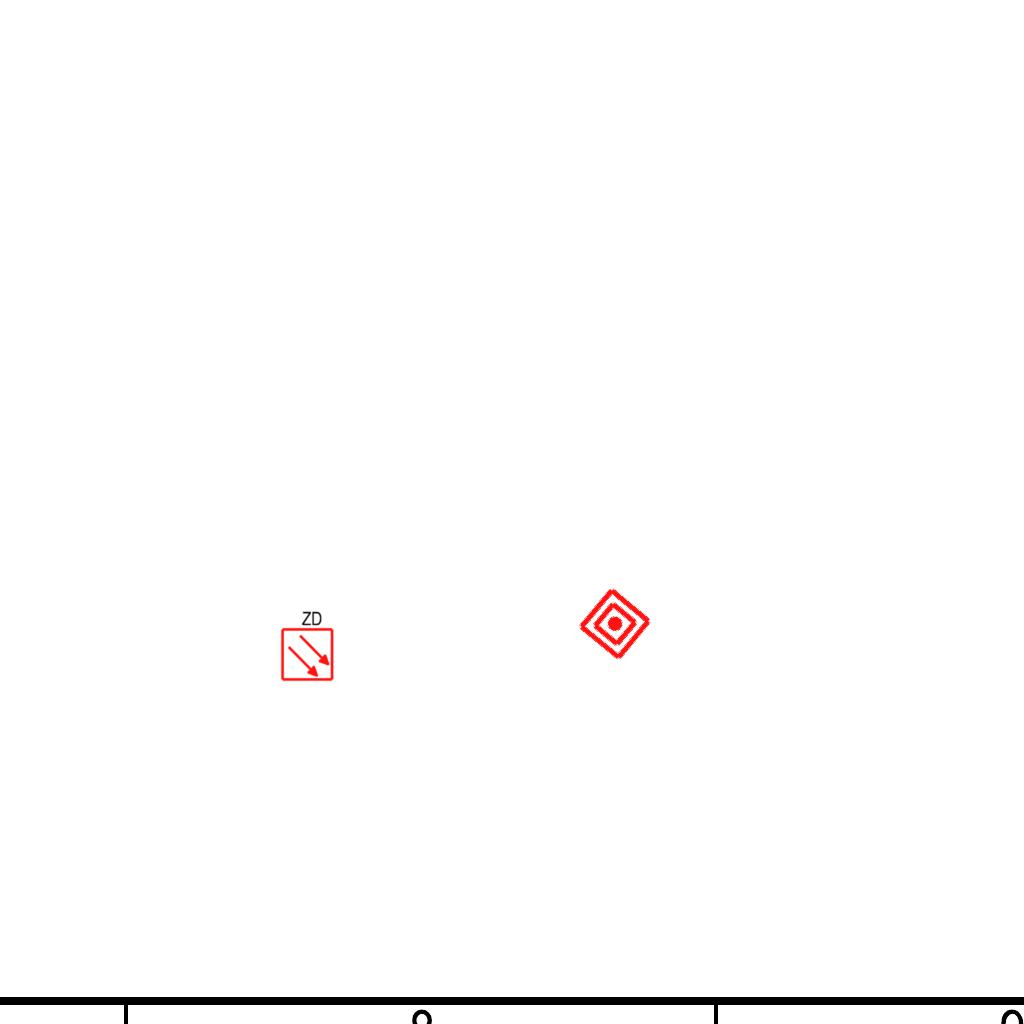NAM-Nichtautomatischer_Melder: (575, 584, 655, 664)
ZD_Melder_in_Zwischendecke_mit_Revisionsoeffnung_mind_40_x_40_cm: (278, 608, 335, 682)
